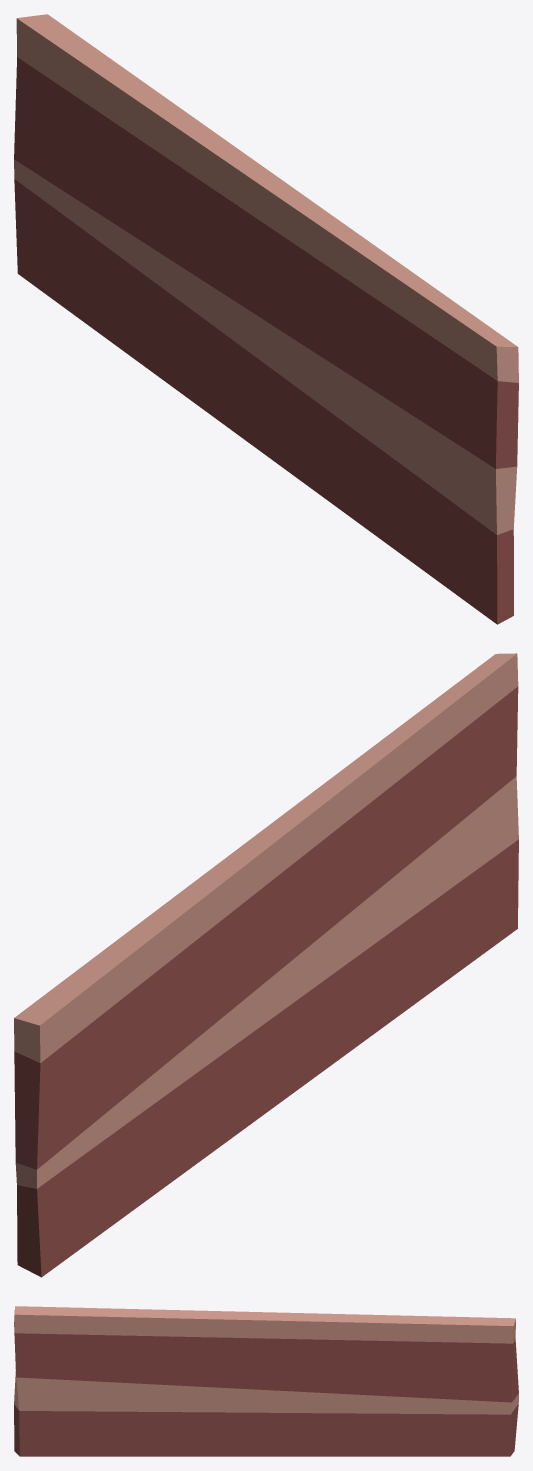
The model's file is baconStrip01.fbx.
The picture shows the model from 3 angles, top to bottom: view 1: azimuth 30°, elevation 25°; view 2: azimuth 150°, elevation 25°; view 3: azimuth 270°, elevation 25°; orthographic projection. The views are drawn at different scales.
Parts seen in each view (by area): view 1: baconStrip01; view 2: baconStrip01; view 3: baconStrip01.
Boxes of the visible parts, <box> form: baconStrip01: <box>14,14,518,624</box>; baconStrip01: <box>14,653,518,1277</box>; baconStrip01: <box>14,1306,518,1456</box>.
Size of the model in its own units: 0.7001 by 6.31 by 19.94.
Materials: 1 (1 with a texture image).
